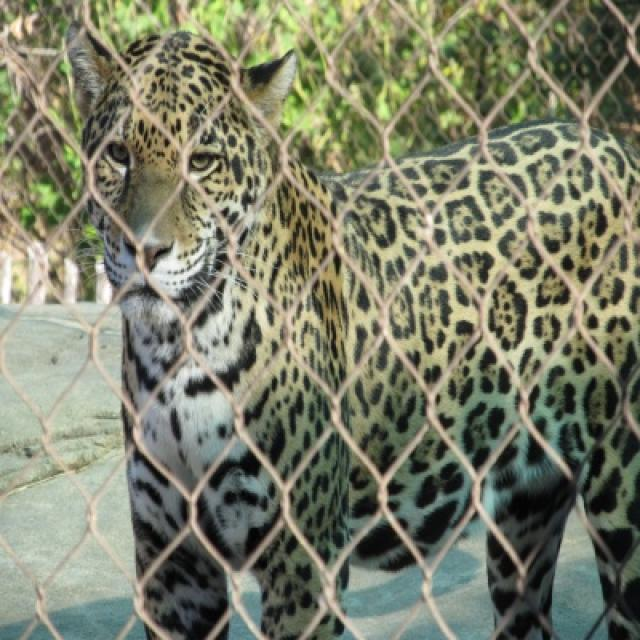Jaguar: (82, 30, 638, 638)
